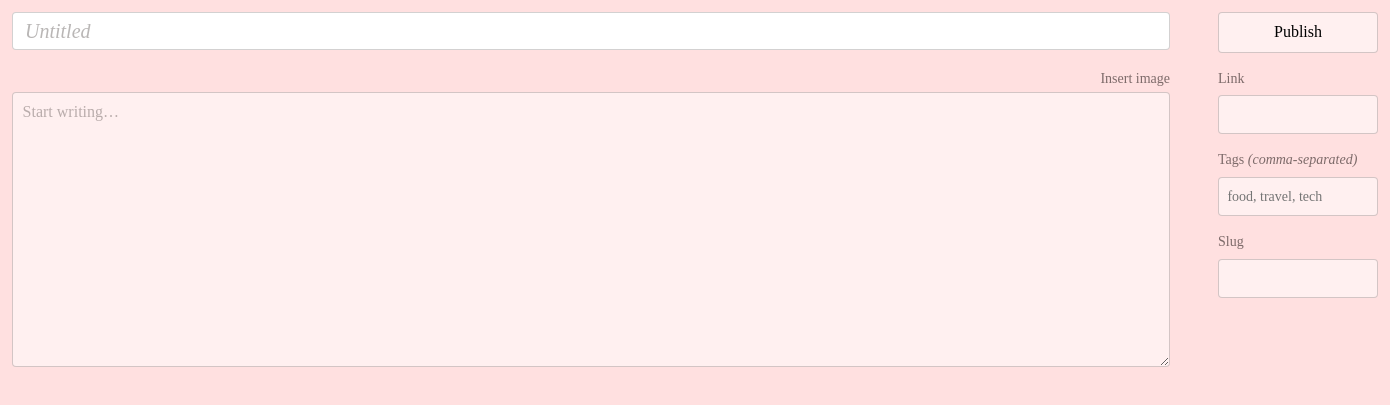
Test case: PostForm › blocks submit and surfaces an error when body is empty
Click the button "Publish": (1298, 32) [1218,12,1378,53]
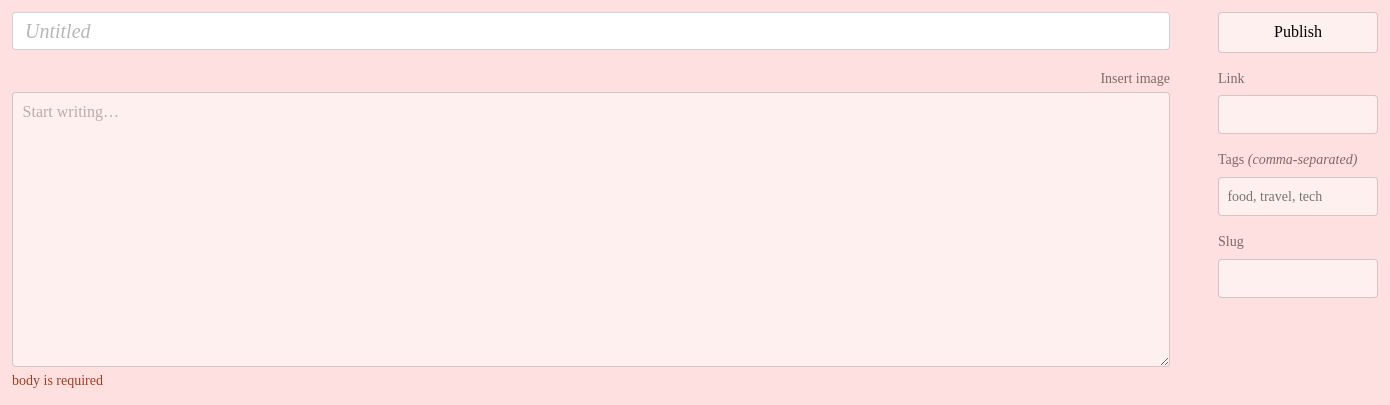
Check: the text "body is required" is shown, box [12,373,103,388]
